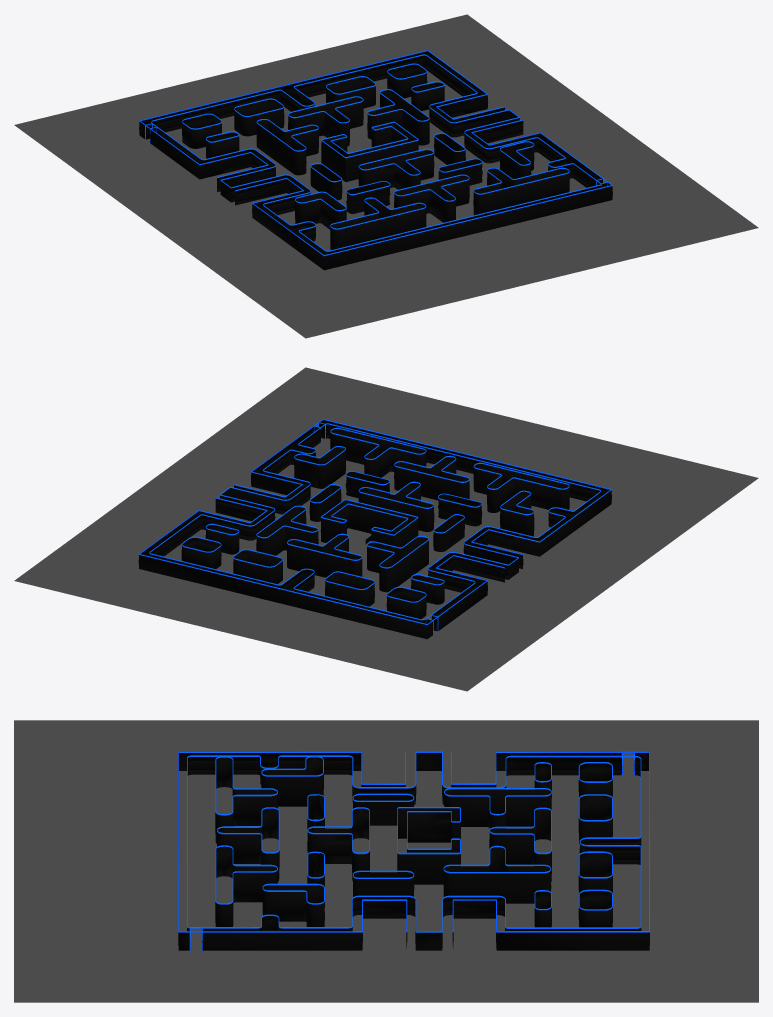
File: sin_nombre.fbx
3 views of the same model, one above another, from view 1: azimuth 30°, elevation 25°; view 2: azimuth 150°, elevation 25°; view 3: azimuth 270°, elevation 25° (orthographic). The views are drawn at different scales.
Parts seen in each view (by area): view 1: Plano, Blue Lights, Cylinder.001; view 2: Plano, Blue Lights, Cylinder.001; view 3: Plano, Blue Lights, Cylinder.001.
Boxes of the visible parts, bbox=[...] form: Plano: bbox=[14, 14, 758, 338]; Blue Lights: bbox=[139, 51, 612, 270]; Cylinder.001: bbox=[139, 50, 612, 256]; Plano: bbox=[14, 367, 758, 691]; Blue Lights: bbox=[138, 420, 611, 639]; Cylinder.001: bbox=[139, 419, 611, 634]; Plano: bbox=[14, 720, 758, 1002]; Blue Lights: bbox=[178, 753, 649, 950]; Cylinder.001: bbox=[178, 751, 649, 950].
Size of the model in its own units: 186 by 13.36 by 207.
